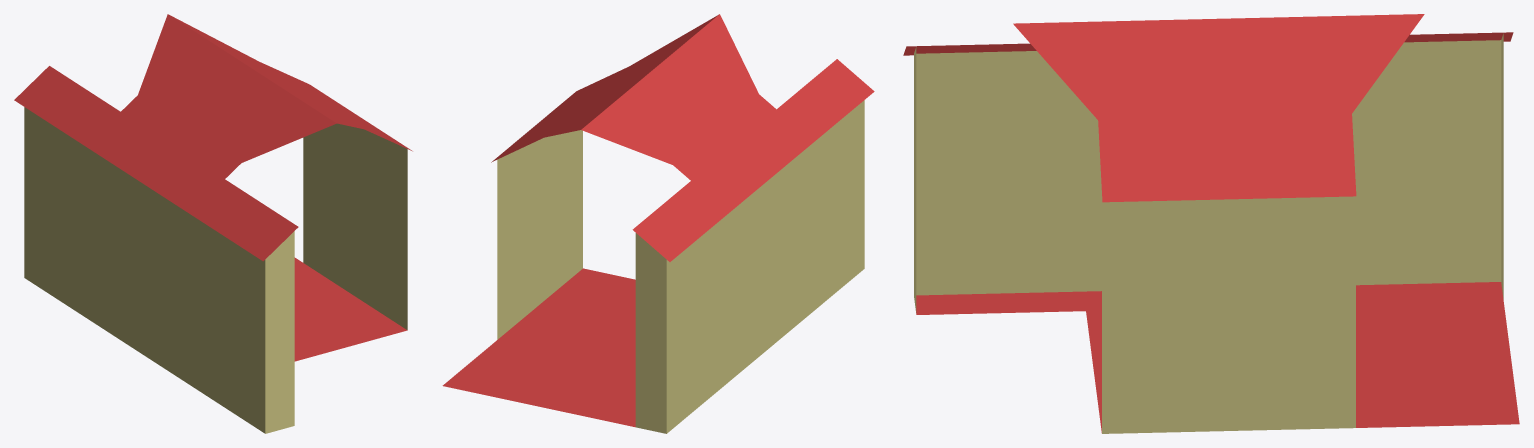
3 renders of one model, left to right at view 1: azimuth 30°, elevation 25°; view 2: azimuth 150°, elevation 25°; view 3: azimuth 270°, elevation 25°, orthographic. The views are drawn at different scales.
Size of the model in its own units: 9.53 by 15.44 by 9.47.
